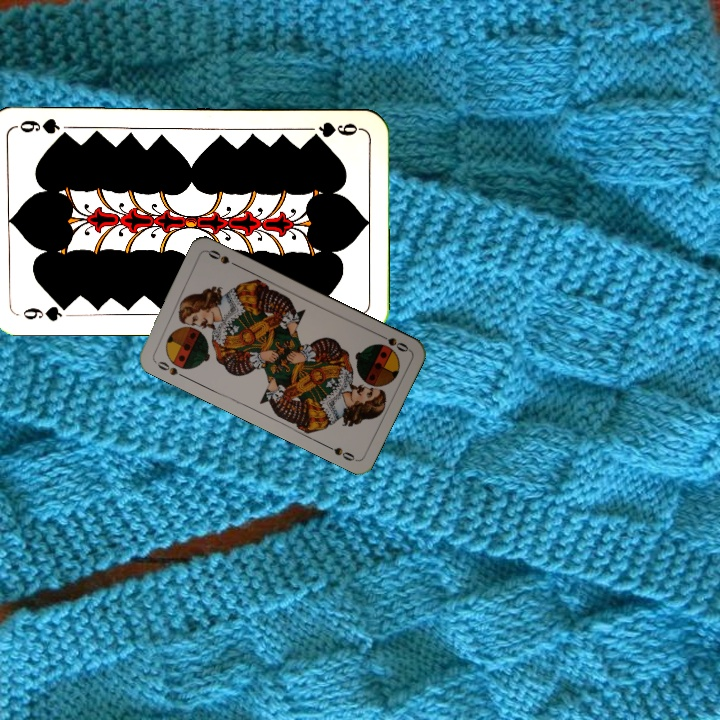G9: (19, 300, 73, 324), (306, 118, 362, 140)
SO: (374, 329, 411, 355), (150, 357, 188, 381)
